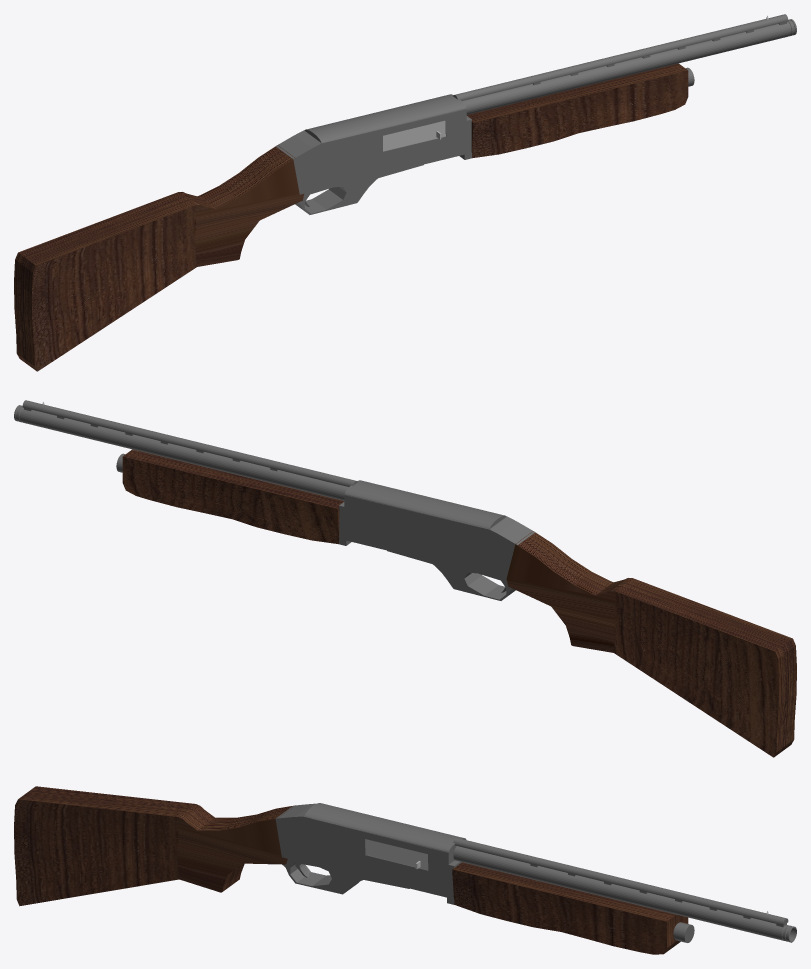
The model's file is MAG-10.fbx.
The picture shows the model from 3 angles, top to bottom: view 1: azimuth 30°, elevation 25°; view 2: azimuth 150°, elevation 25°; view 3: azimuth 330°, elevation 25°; orthographic projection.
Visible parts, largest first — view 1: Stock, Hand Guard, Receiver, Barrel, Upper Barrel Guard, Upper Receiver, Trigger Guard, Bullet Ejector; view 2: Stock, Hand Guard, Receiver, Barrel, Upper Barrel Guard, Upper Receiver, Trigger Guard; view 3: Stock, Hand Guard, Receiver, Barrel, Upper Barrel Guard, Upper Receiver, Trigger Guard, Bullet Ejector, Mag.
Boxes of the visible parts, box(x1,y1,x2,y2) form: Stock: box(14, 145, 303, 371); Hand Guard: box(466, 63, 688, 158); Receiver: box(275, 109, 466, 194); Barrel: box(462, 24, 788, 114); Upper Barrel Guard: box(453, 14, 788, 100); Upper Receiver: box(304, 94, 466, 143); Trigger Guard: box(295, 164, 423, 214); Bullet Ejector: box(383, 120, 445, 151); Stock: box(506, 531, 796, 757); Hand Guard: box(122, 449, 344, 544); Receiver: box(344, 495, 535, 579); Barrel: box(22, 410, 348, 500); Upper Barrel Guard: box(22, 400, 357, 486); Upper Receiver: box(344, 480, 506, 529); Trigger Guard: box(387, 550, 515, 600); Stock: box(14, 786, 293, 906); Hand Guard: box(452, 862, 688, 954); Receiver: box(275, 803, 454, 897); Barrel: box(453, 846, 782, 940); Upper Barrel Guard: box(453, 837, 788, 927); Upper Receiver: box(304, 803, 466, 852); Trigger Guard: box(282, 859, 409, 894); Bullet Ejector: box(365, 839, 428, 870); Mag: box(673, 922, 694, 942).
Bounding box in the file's own units: 4985 × 1047 × 256.
Materials: 3 (1 with a texture image).
